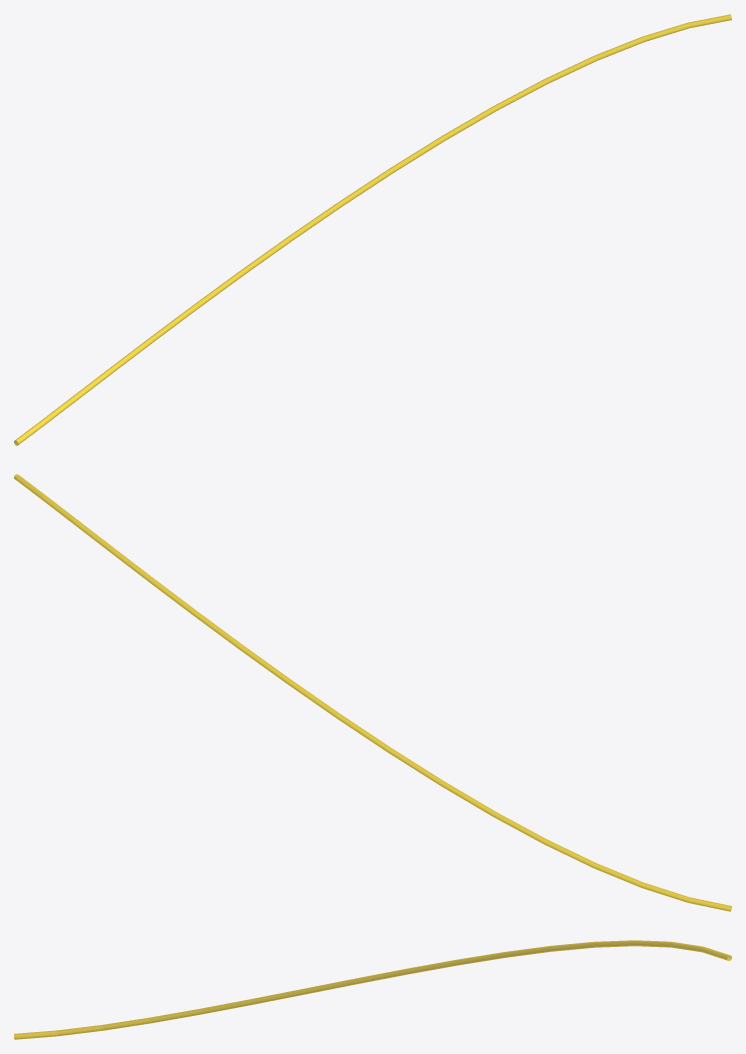
The model's file is Event_40932208_track_43.fbx.
The picture shows the model from 3 angles, top to bottom: view 1: azimuth 30°, elevation 25°; view 2: azimuth 150°, elevation 25°; view 3: azimuth 330°, elevation 25°; orthographic projection.
Parts seen in each view (by area): view 1: Model; view 2: Model; view 3: Model.
Boxes of the visible parts, bbox=[...] form: Model: bbox=[14, 14, 731, 445]; Model: bbox=[14, 474, 731, 911]; Model: bbox=[14, 940, 731, 1039].
Size of the model in its own units: 5.53 by 1.92 by 0.5081.
